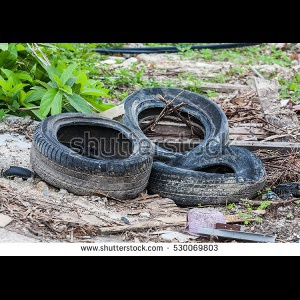tire: (31, 115, 153, 202), (119, 86, 230, 166), (148, 142, 266, 206)
